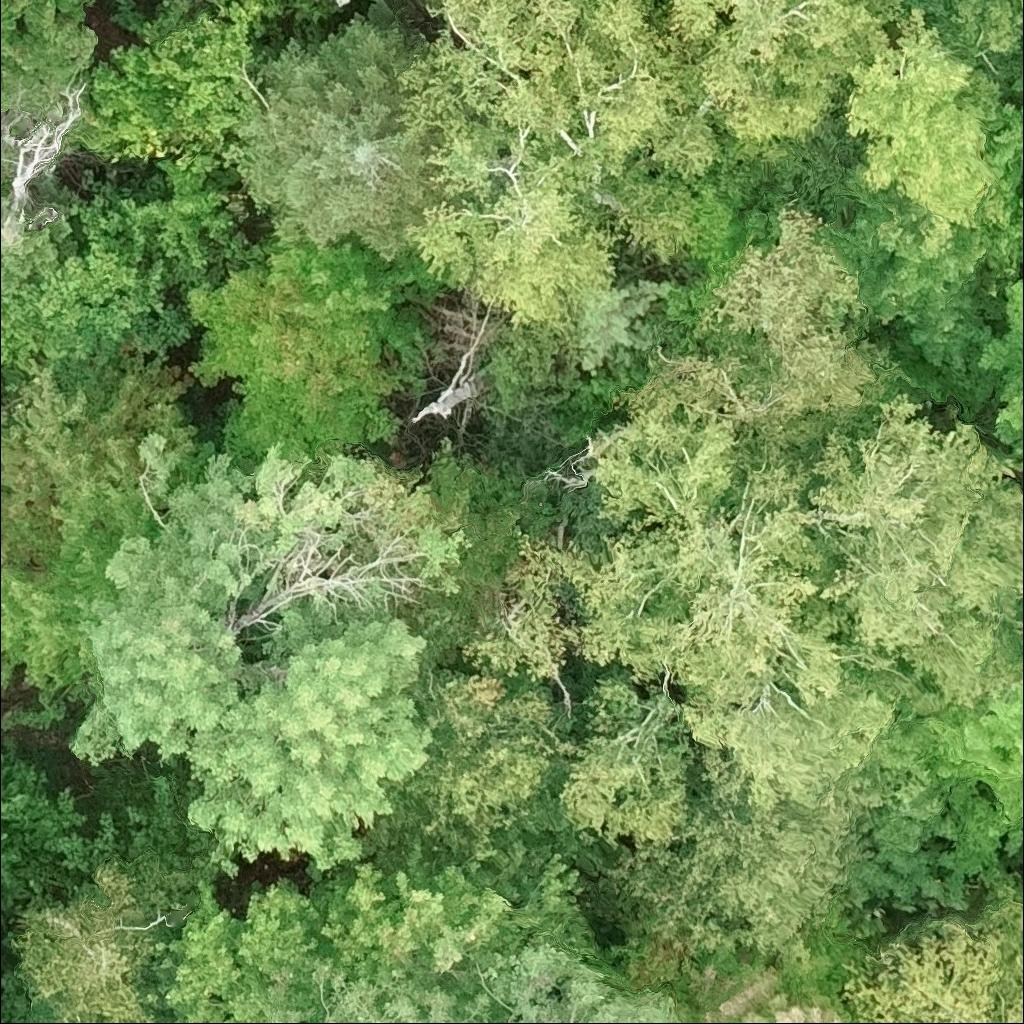crown: (70, 437, 436, 885), (540, 408, 848, 747), (805, 393, 1023, 714), (597, 738, 856, 961), (311, 817, 622, 991), (385, 666, 580, 871), (264, 936, 681, 1023), (603, 890, 869, 1023), (720, 633, 902, 822), (6, 856, 202, 1023), (551, 670, 699, 859), (143, 873, 328, 1023), (840, 882, 1023, 1023), (463, 529, 578, 690), (919, 672, 1023, 825), (0, 748, 50, 898)
